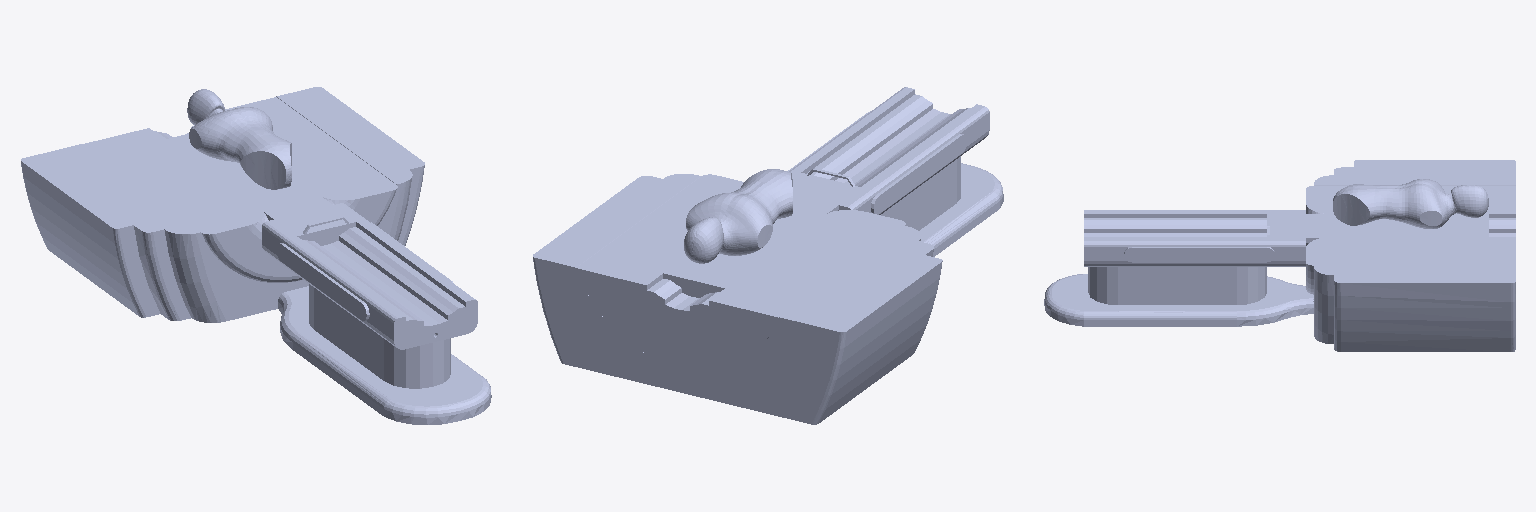
robot.urdf — with_guy:
<robot
  name="with_guy">
  <link
    name="base_link">
    <inertial>
      <origin
        xyz="0.324048394235842 -0.315764695625738 -0.116364511988391"
        rpy="0 0 0" />
      <mass
        value="2879.42820616349" />
      <inertia
        ixx="989.420148113729"
        ixy="15.3018541837142"
        ixz="-15.000262340433"
        iyy="517.01186230484"
        iyz="-77.8721481058044"
        izz="1135.34835153426" />
    </inertial>
    <visual>
      <origin
        xyz="0 0 0"
        rpy="0 0 0" />
      <geometry>
        <mesh
          filename="package://with_guy/meshes/base_link.STL" />
      </geometry>
      <material
        name="">
        <color
          rgba="0.792156862745098 0.819607843137255 0.933333333333333 1" />
      </material>
    </visual>
    <collision>
      <origin
        xyz="0 0 0"
        rpy="0 0 0" />
      <geometry>
        <mesh
          filename="package://with_guy/meshes/base_link.STL" />
      </geometry>
    </collision>
  </link>
</robot>

--- What the picture shows (computed from the rendered views, not written in the file) ---
3 views of the same robot in one strip: view 1: azimuth 30°, elevation 25°; view 2: azimuth 150°, elevation 25°; view 3: azimuth 270°, elevation 25° (orthographic).
Model with_guy with 1 links and 0 joints (none), rooted at base_link, posed all joints at 0.
Links seen in each view (by area): view 1: base_link; view 2: base_link; view 3: base_link.
Link boxes in pixels (left/top/right/bottom): base_link: left=21, top=87, right=491, bottom=424; base_link: left=533, top=87, right=1003, bottom=424; base_link: left=1044, top=160, right=1515, bottom=351.
Size in the robot's own frame: 1.89 by 3.04 by 0.8742 metres.
1 mesh visuals loaded from 1 distinct referenced files (1 binary STL).
